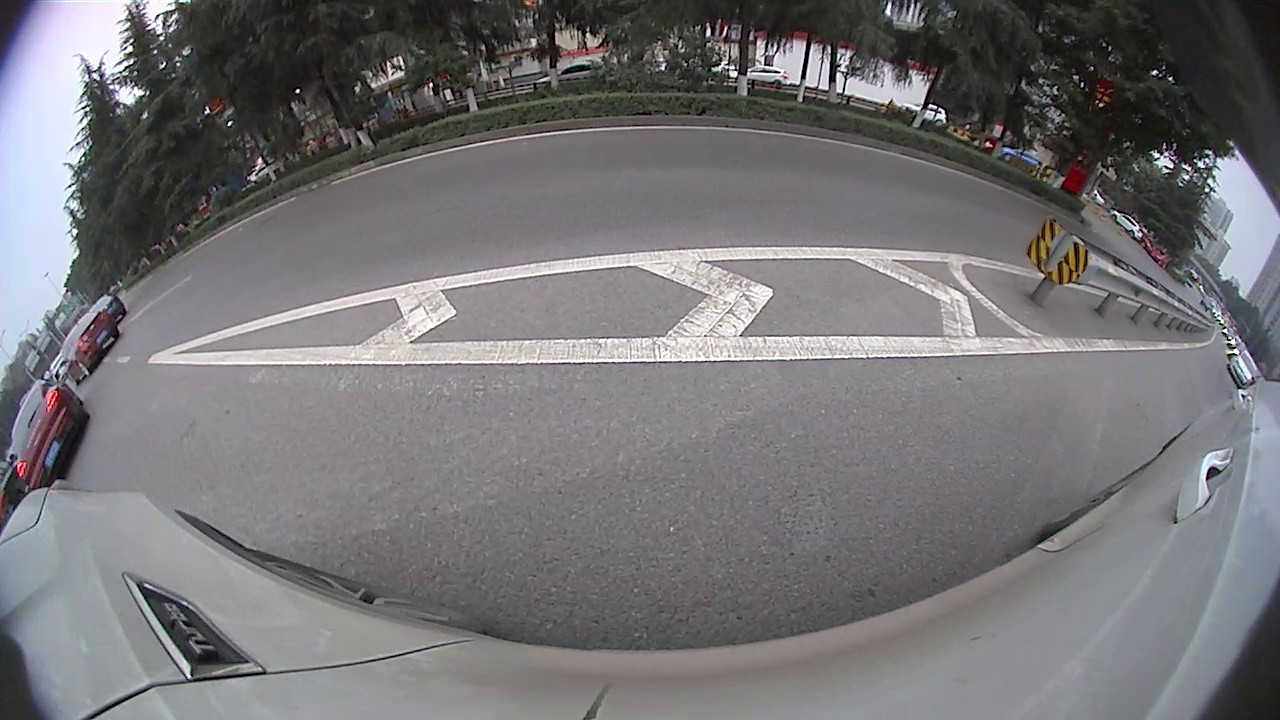car: (13, 379, 90, 492), (61, 312, 122, 383), (1226, 351, 1266, 388)
rear: (74, 360, 93, 378)
